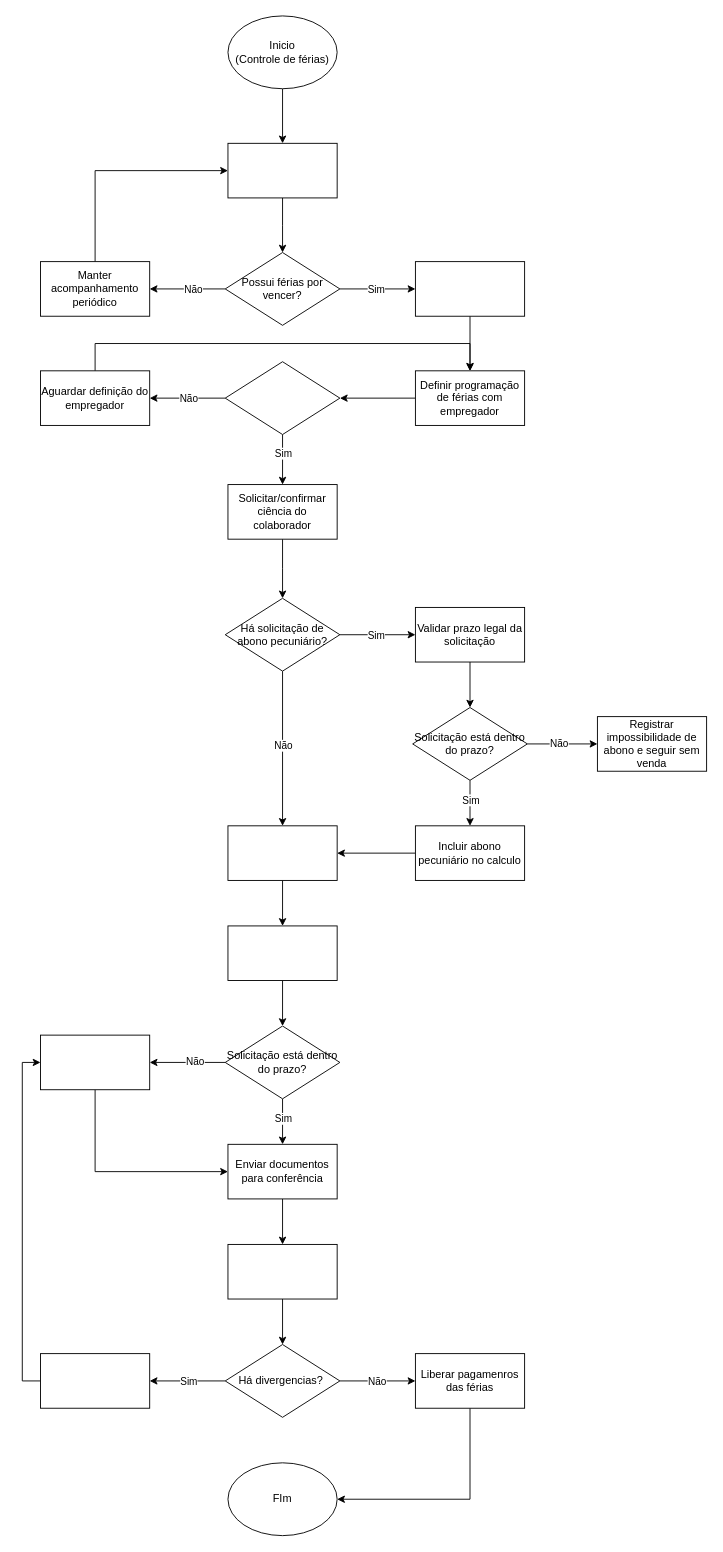
Some shapes in this 723 by 1552 pixel diagram are drawn without their labels. Each missing label, with the centre of its shape:
Calcular férias: [282,852]
Conferir cálculo e dados cadastrais: [282,1271]
Corrigir cálculo/datas/eventos: [95,1380]
Emitir recibo de férias: [282,953]
Identificar o saldo de férias e período disponível: [470,288]
Monitorar período aquisitivo dos colaboradores: [282,170]
Período de férias foi aprovado pelo empregador?: [282,398]
Registrar divergência e ajustar programação /pagamento: [95,1062]
